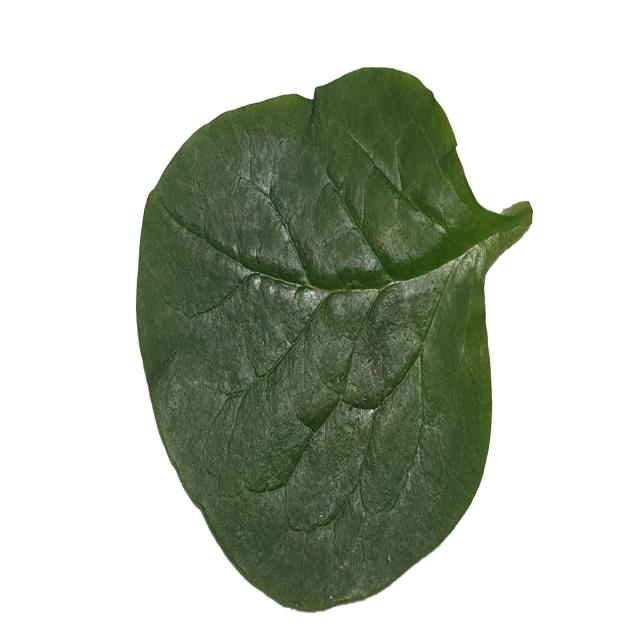Medicinal-Basale: (134, 66, 534, 612)
